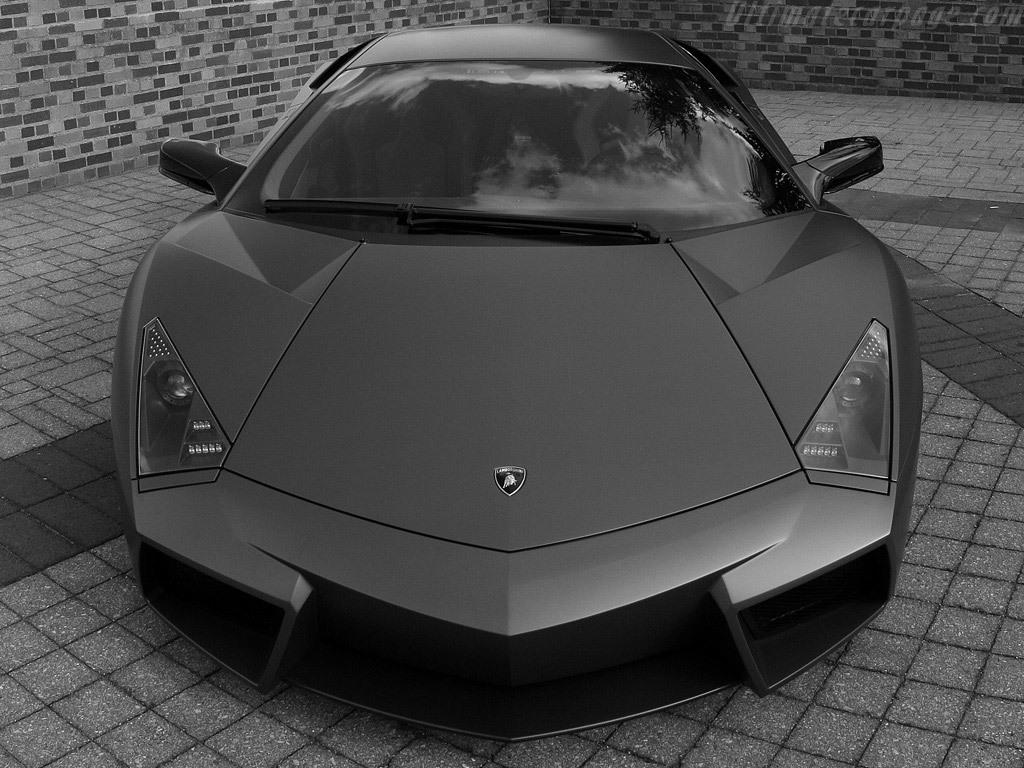car: (114, 26, 925, 744)
